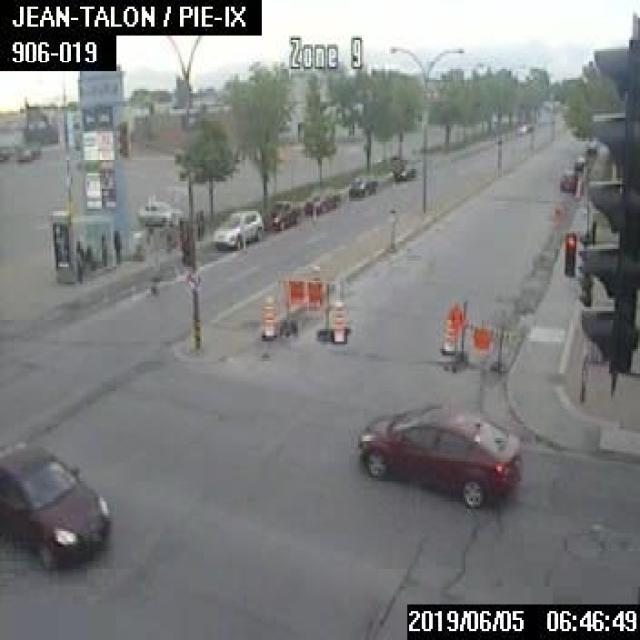construction: (445, 299, 512, 378), (275, 271, 349, 342), (257, 291, 276, 341), (328, 299, 346, 339), (438, 313, 454, 352)
pedestrian: (73, 237, 83, 283), (112, 229, 122, 263), (84, 243, 95, 270), (195, 208, 204, 238), (100, 230, 106, 266)
vehicle: (356, 402, 522, 511), (0, 438, 109, 569), (209, 207, 262, 249), (264, 197, 300, 228), (135, 200, 183, 223), (301, 188, 339, 215), (347, 171, 376, 198), (389, 155, 415, 180), (15, 139, 39, 160), (558, 168, 576, 191), (514, 120, 532, 133), (573, 154, 585, 167), (584, 142, 594, 154)
